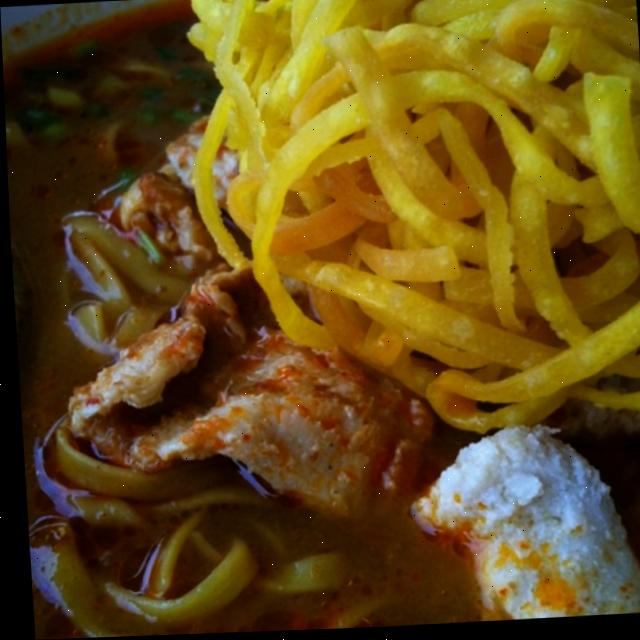面条主食: (150, 0, 634, 379)
